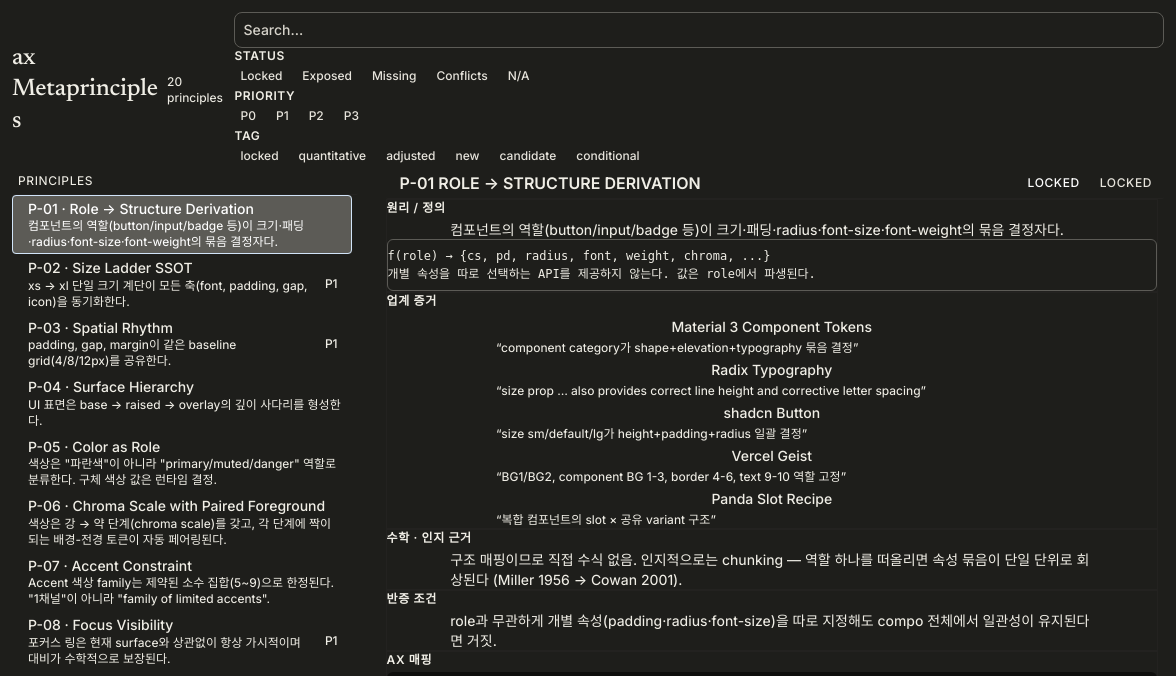
Test: /ax-principles — screen integration › Status filter "Exposed" reduces list to 5 principles
Click the button "Exposed" at (327, 76), box [296, 64, 358, 88]
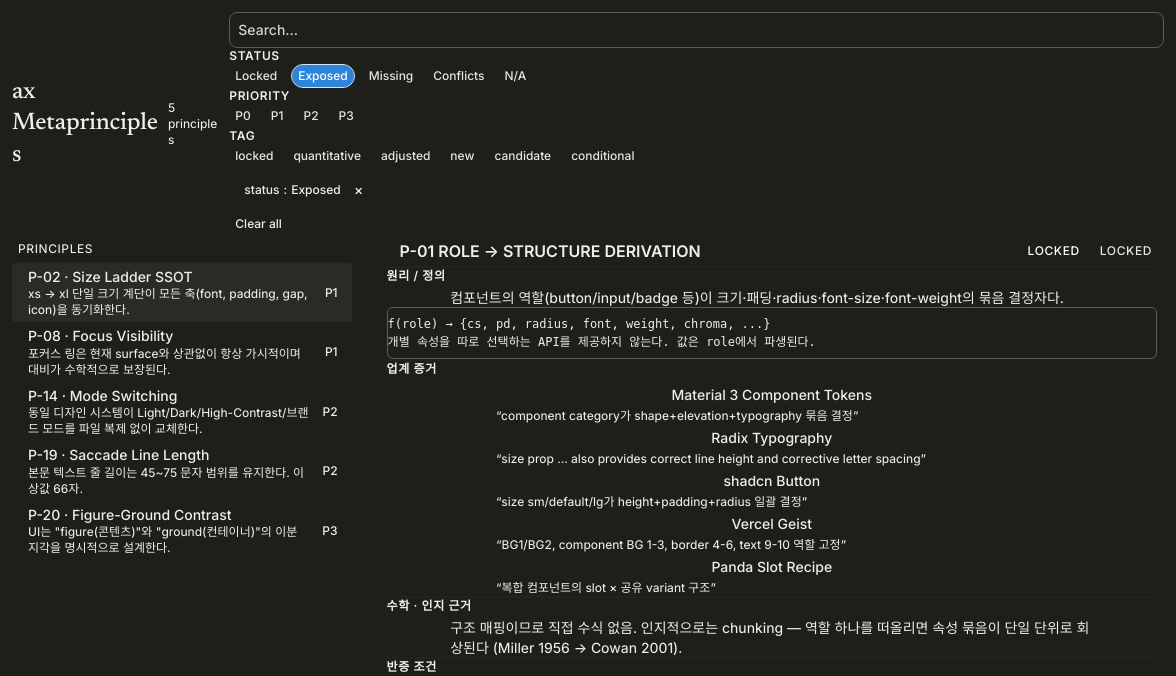
Result: the number of options is 5 at [12, 263, 352, 322]; [12, 322, 352, 382]; [12, 382, 352, 441]; [12, 441, 352, 501]; [12, 501, 352, 560]
Result: the text "5 principles" is shown at [168, 100, 221, 148]
